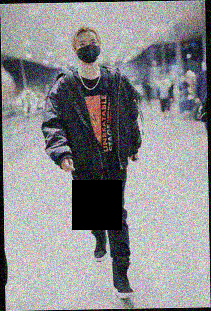with_mask: (76, 37, 101, 64)
